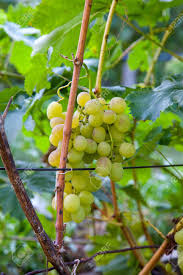grapes: (40, 91, 136, 226)
